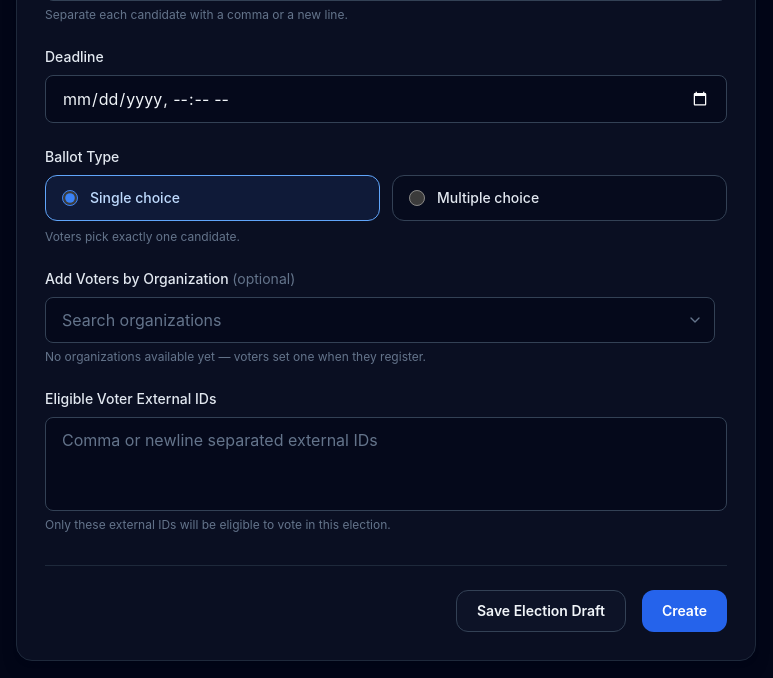
Test case: CreateElection organization selector › can be driven by keyboard alone: arrow to a match, Enter to choose it
(page scrolled)
Type "club" into the dropdown labelled "Add Voters by Organization (optional)" at [380, 320], box [45, 297, 715, 343]
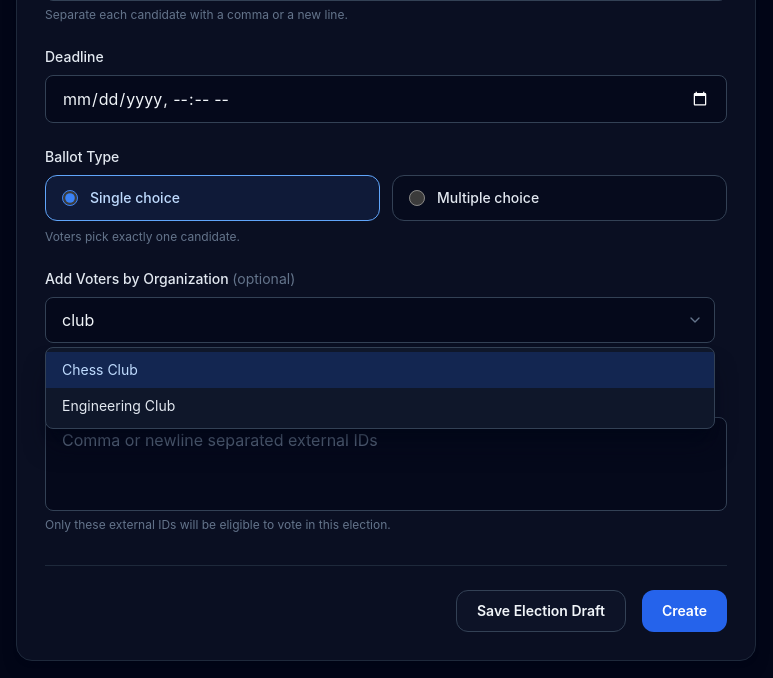
Now the option "Engineering Club" is shown, box [62, 397, 175, 414]
Press ArrowDown in the dropdown labelled "Add Voters by Organization (optional)", box [45, 297, 715, 343]
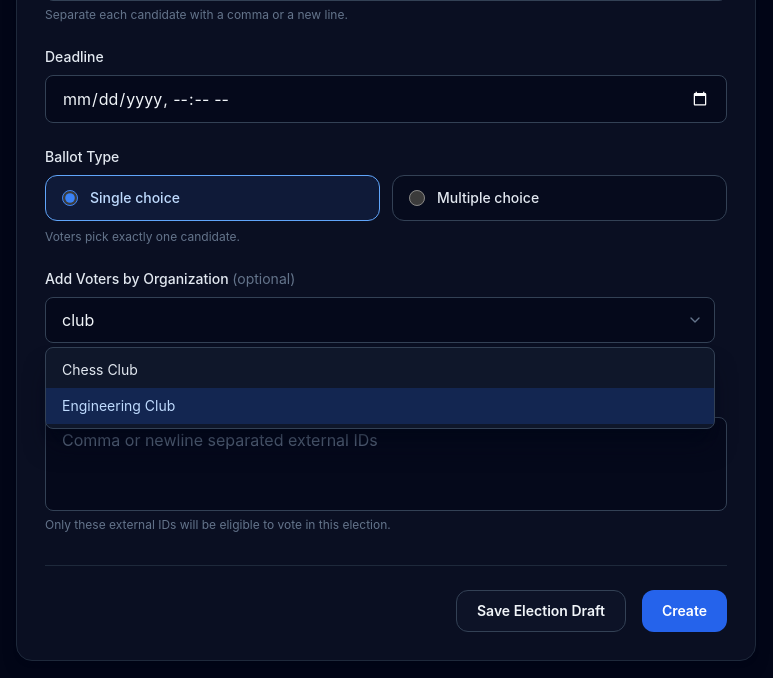
Press Enter in the dropdown labelled "Add Voters by Organization (optional)", box [45, 297, 715, 343]
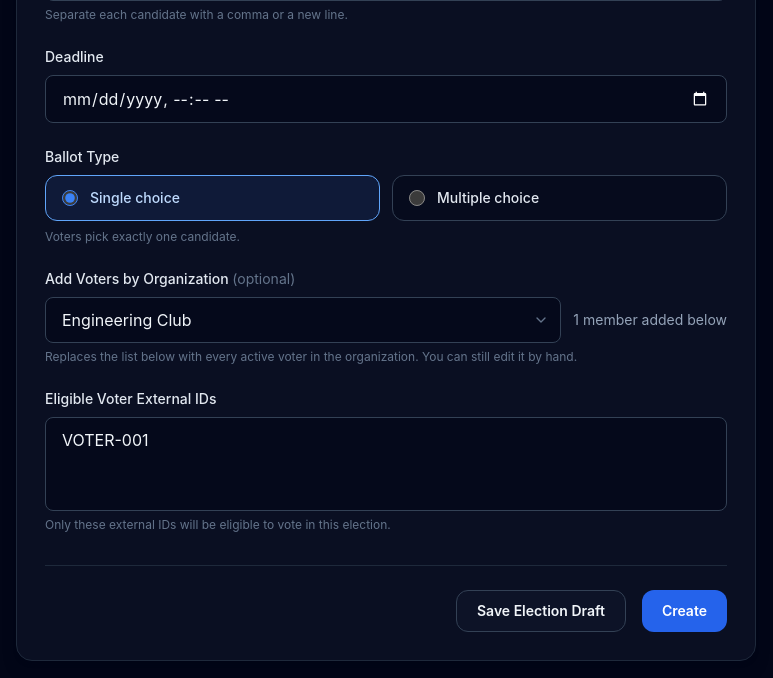
Now the dropdown labelled "Add Voters by Organization (optional)" holds "Engineering Club", box [45, 297, 561, 343]
